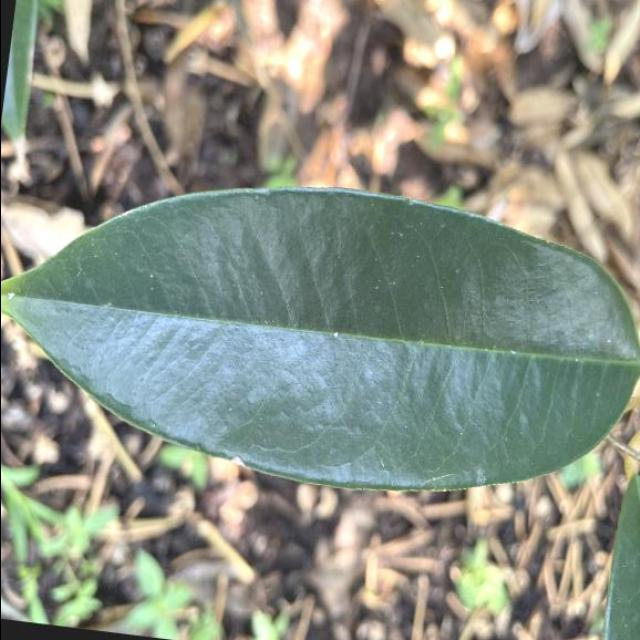No Disease: (0, 137, 640, 532)
